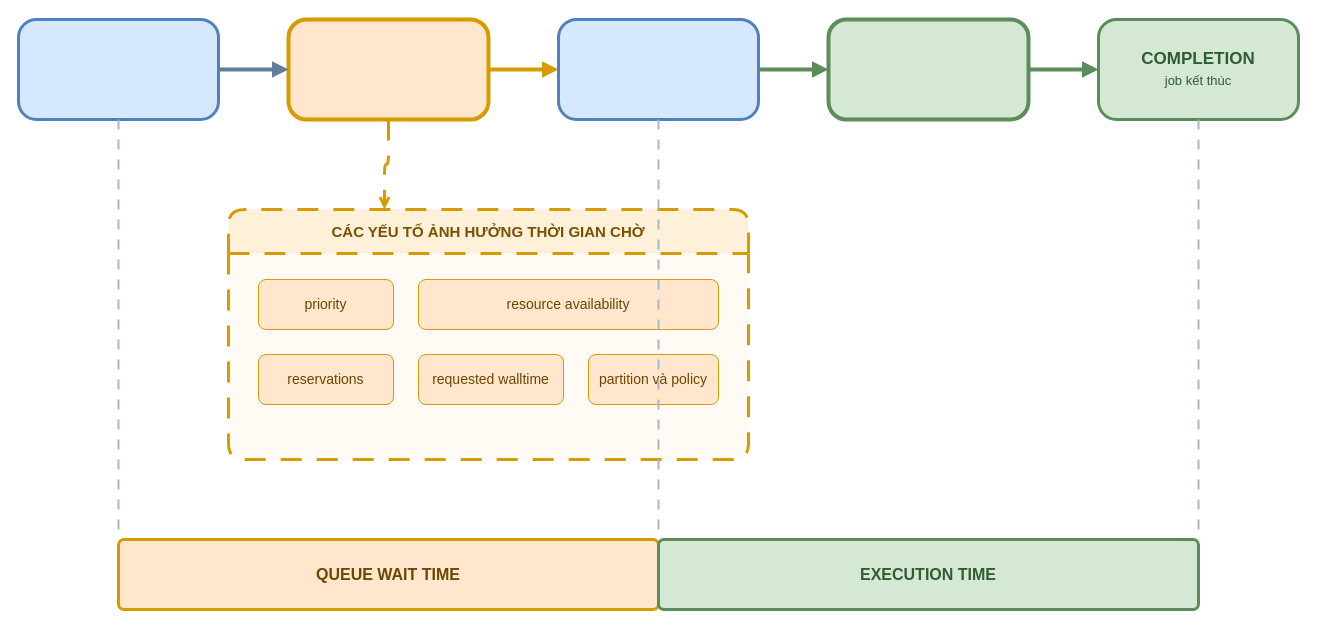
This 1317x628 diagram has some shape labels left out. Here are the shapes that lost their labels. From the top down, the centre of each, then its label:
At (118,69): "SUBMISSION job được gửi vào hệ thống".
At (388,69): "PENDING in queue".
At (658,69): "RESOURCE ALLOCATION".
At (928,69): "EXECUTION job đang chạy".
